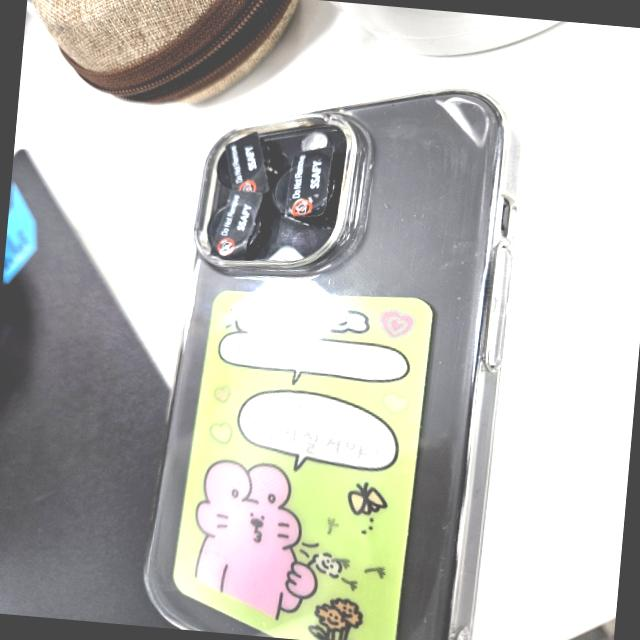phone: (135, 62, 531, 640)
sticker: (210, 188, 264, 259), (284, 142, 332, 218), (220, 130, 273, 192)
